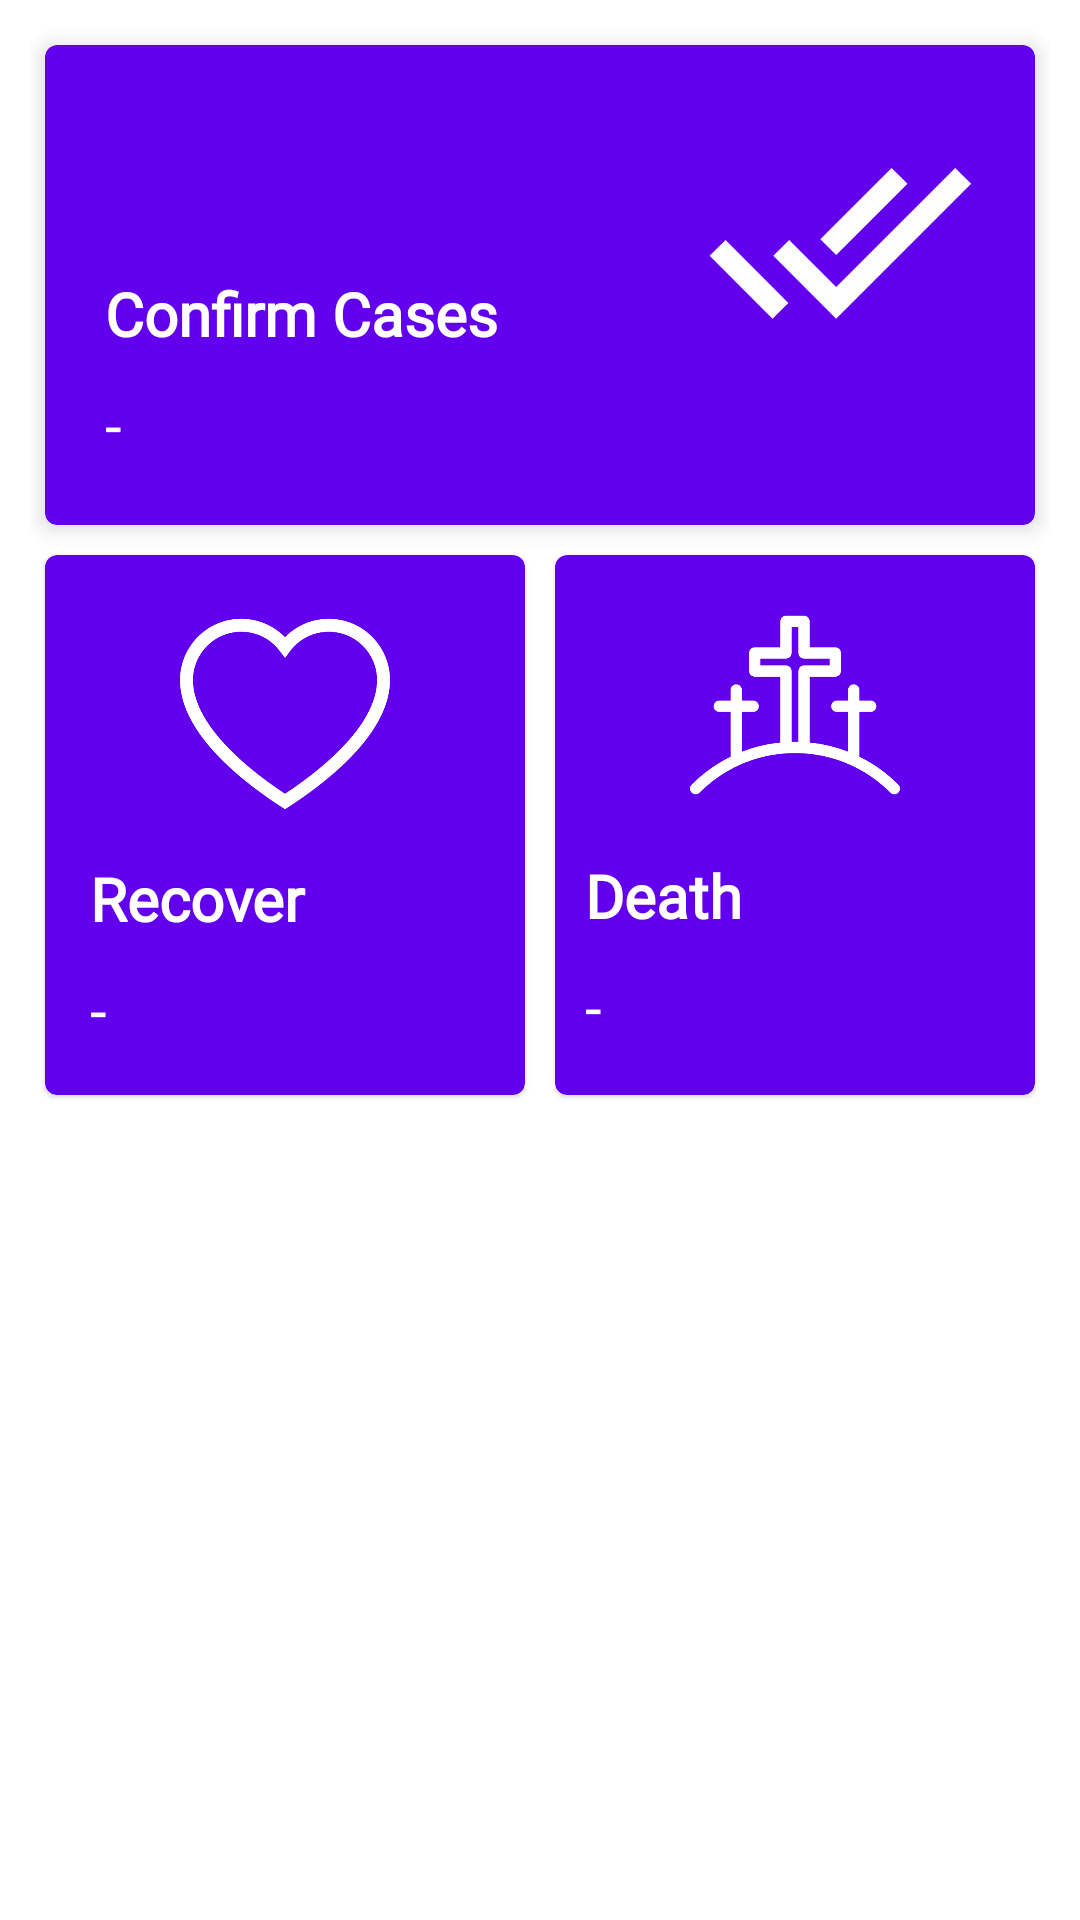

Icons on this 1080px×1920px Android screen, each with the point to tap as point (x, y):
Confirm Cases: point (840, 243)
